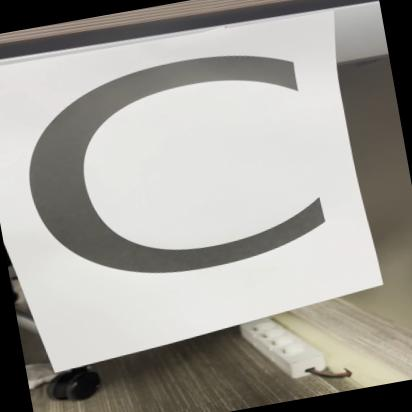seat: (0, 4, 396, 358)
